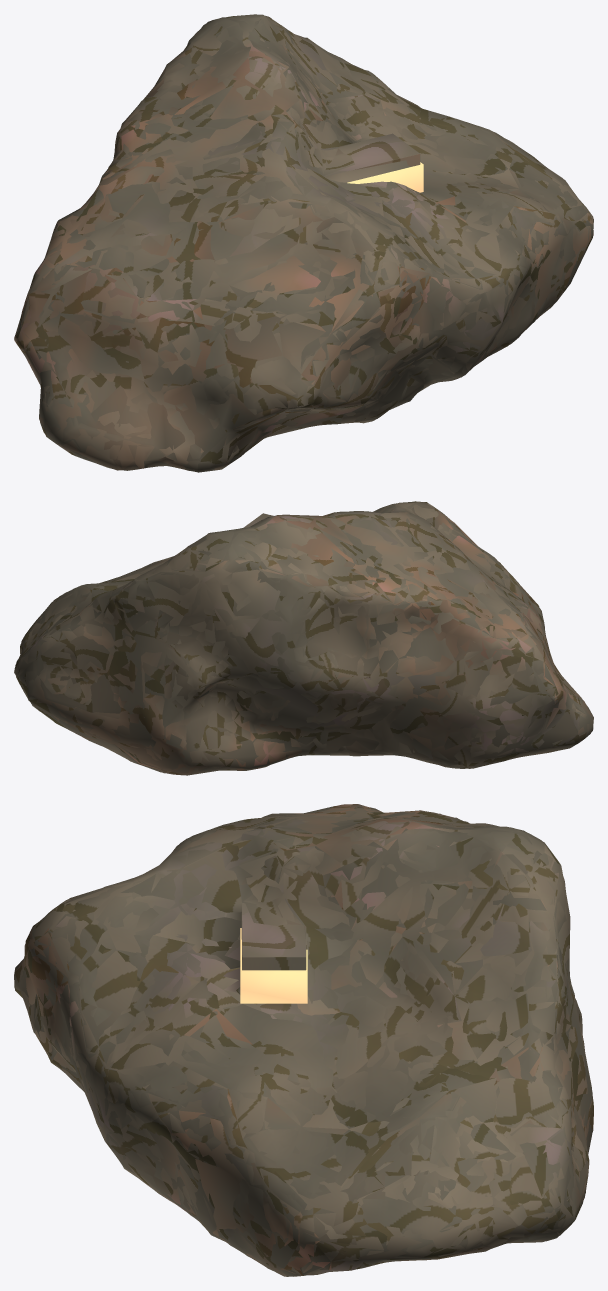
File: helios_rock_c.glb
3 views of the same model, one above another, from view 1: azimuth 30°, elevation 25°; view 2: azimuth 150°, elevation 25°; view 3: azimuth 270°, elevation 25° (orthographic). The views are drawn at different scales.
Parts seen in each view (by area): view 1: LOD2_Merged_Material_Rock, LOD0_Merged_Material_Rock, LOD1_Merged_Material_Rock, LOD0_Merged_Material_Warm; view 2: LOD2_Merged_Material_Rock, LOD0_Merged_Material_Rock, LOD1_Merged_Material_Rock; view 3: LOD2_Merged_Material_Rock, LOD0_Merged_Material_Rock, LOD1_Merged_Material_Rock, LOD0_Merged_Material_Warm.
Part boxes in pixels (x1=…): LOD2_Merged_Material_Rock: x1=14, y1=15, x2=593, y2=472; LOD0_Merged_Material_Rock: x1=15, y1=14, x2=593, y2=471; LOD1_Merged_Material_Rock: x1=14, y1=14, x2=593, y2=470; LOD0_Merged_Material_Warm: x1=347, y1=162, x2=423, y2=192; LOD2_Merged_Material_Rock: x1=14, y1=502, x2=593, y2=775; LOD0_Merged_Material_Rock: x1=14, y1=501, x2=593, y2=774; LOD1_Merged_Material_Rock: x1=15, y1=502, x2=593, y2=775; LOD2_Merged_Material_Rock: x1=14, y1=806, x2=592, y2=1276; LOD0_Merged_Material_Rock: x1=14, y1=804, x2=593, y2=1276; LOD1_Merged_Material_Rock: x1=15, y1=804, x2=593, y2=1276; LOD0_Merged_Material_Warm: x1=240, y1=928, x2=307, y2=1003.
Bounding box in the file's own units: 6.26 × 3 × 4.52.
2 materials, 2 textured.
